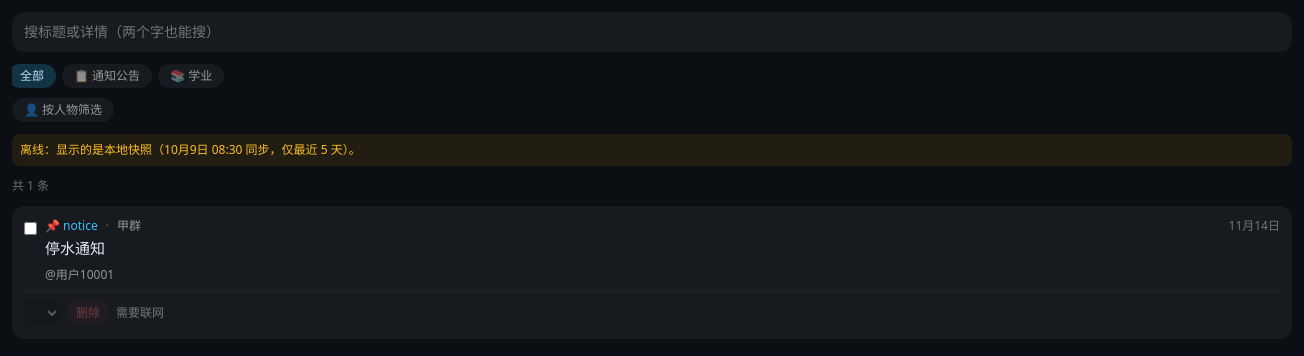
⭐ T6：离线 + 筛选筛不出任何条目 ⇒ 说"当前筛选…下还没有条目",不说"离线无快照"
The width and height of the screenshot is (1304, 356).
Check: the text "停水通知" is shown, box [45,238,105,258]
Note: 点一个快照里**一条都没有**的类目
Step 1. Click the button "📚 学业" → (191, 76), box [158,64,224,88]
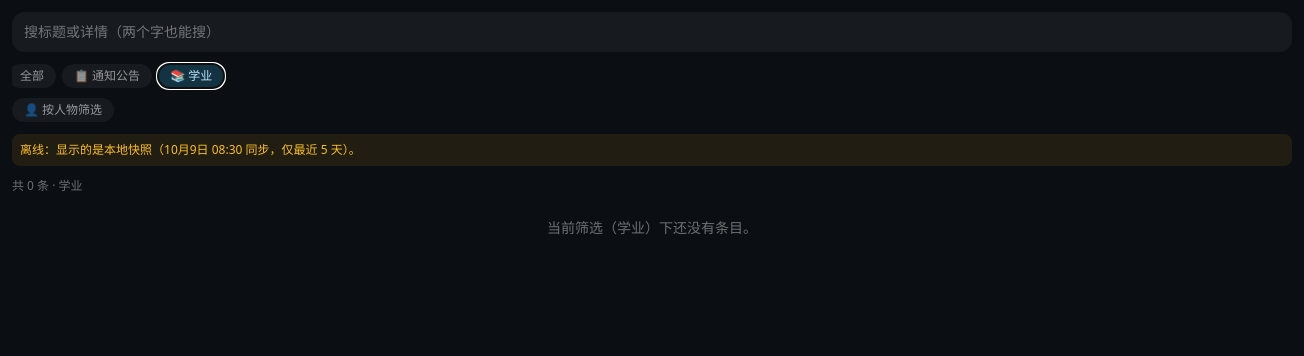
Check: the text "离线：显示的是本地快照（10月9日 08:30 同步，仅最近 5 天）。" is shown, box [12,134,1292,166]
Check: the text "当前筛选（学业）下还没有条目。" is shown, box [547,218,757,237]
